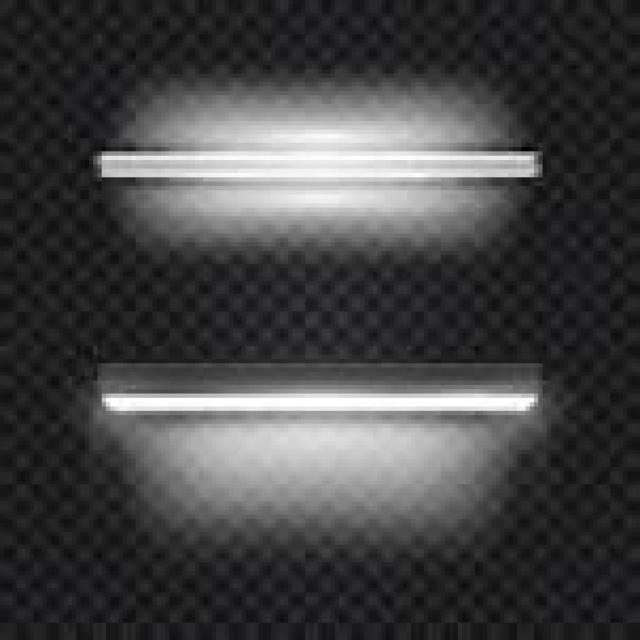tubelight_on: (90, 346, 547, 417), (76, 142, 545, 196)
